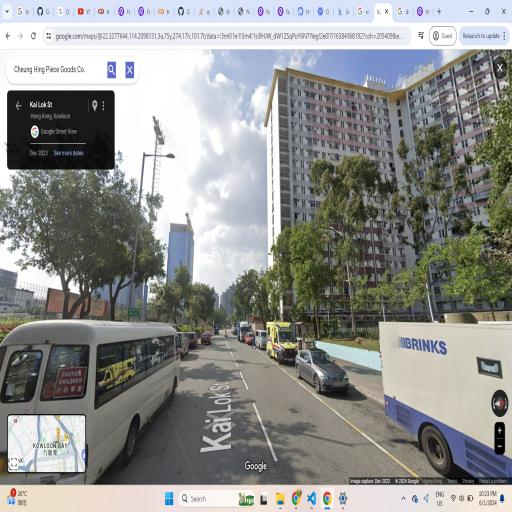Roads: (27, 326, 511, 465)
Trees: (12, 152, 108, 314), (312, 152, 374, 323), (401, 122, 448, 322), (284, 222, 341, 339), (95, 184, 139, 320), (231, 258, 295, 321)
